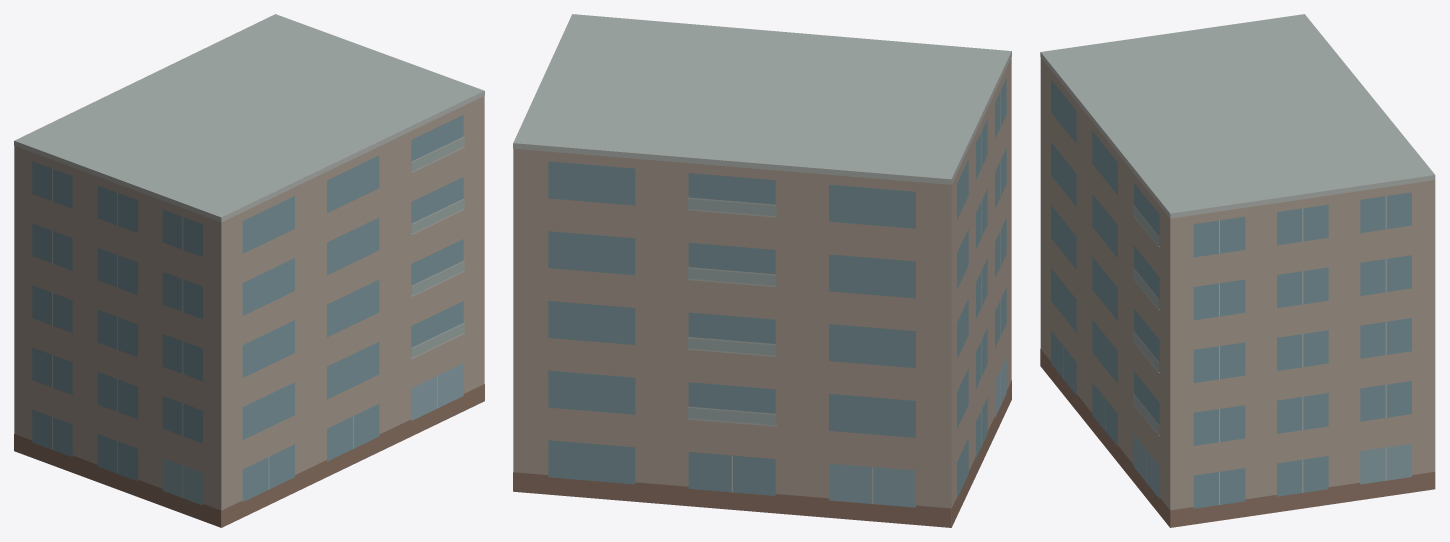
The model's file is survey-upis-32788723.glb.
3 renders of one model, left to right at view 1: azimuth 30°, elevation 25°; view 2: azimuth 150°, elevation 25°; view 3: azimuth 270°, elevation 25°, orthographic. The views are drawn at different scales.
Parts seen in each view (by area): view 1: survey-upis-32788723.tmp; view 2: survey-upis-32788723.tmp; view 3: survey-upis-32788723.tmp.
Boxes of the visible parts, x1,y1,x2,y2 form: survey-upis-32788723.tmp: (14,14,484,527); survey-upis-32788723.tmp: (513,14,1011,527); survey-upis-32788723.tmp: (1040,14,1435,527).
Bounding box in the file's own units: 20.79 × 15.25 × 17.38.
